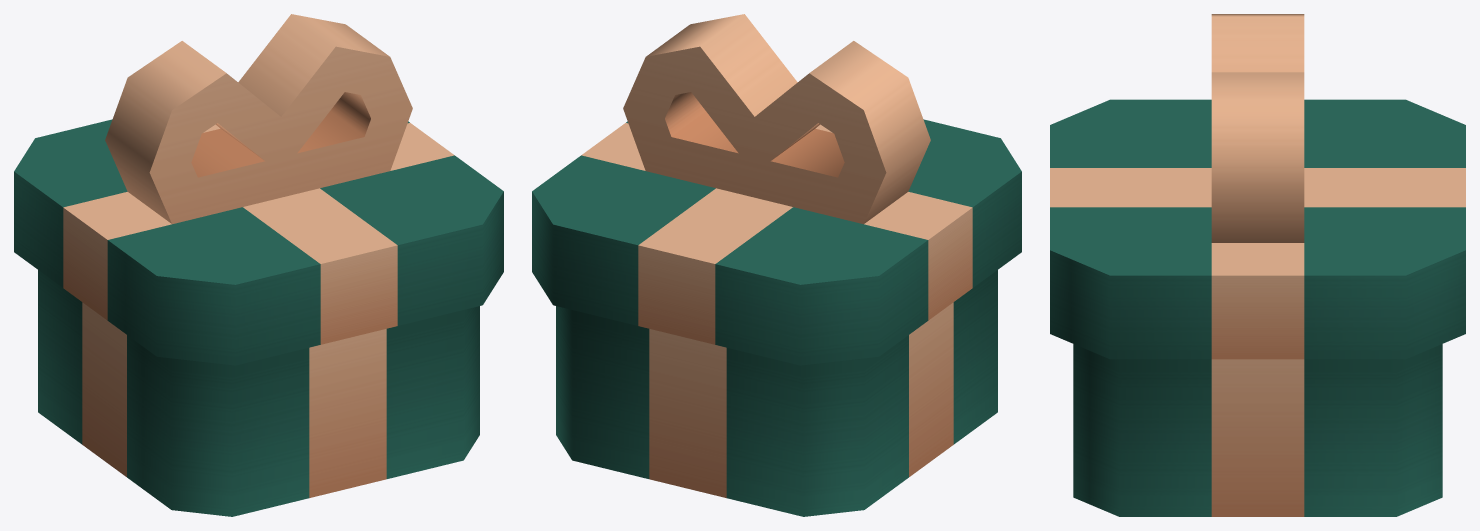
File: present-b-cube.obj
The picture shows the model from 3 angles, left to right: view 1: azimuth 30°, elevation 25°; view 2: azimuth 150°, elevation 25°; view 3: azimuth 270°, elevation 25°; orthographic projection. The views are drawn at different scales.
Parts seen in each view (by area): view 1: lid, present-b-cube; view 2: lid, present-b-cube; view 3: lid, present-b-cube.
Part boxes in pixels (x1,y1,x2,y2): lid: [14, 14, 503, 365]; present-b-cube: [38, 270, 479, 516]; lid: [532, 14, 1021, 365]; present-b-cube: [556, 270, 997, 516]; lid: [1050, 14, 1465, 359]; present-b-cube: [1073, 344, 1442, 516].
Size of the model in its own units: 0.45 by 0.4707 by 0.45.
1 material, 1 textured.
